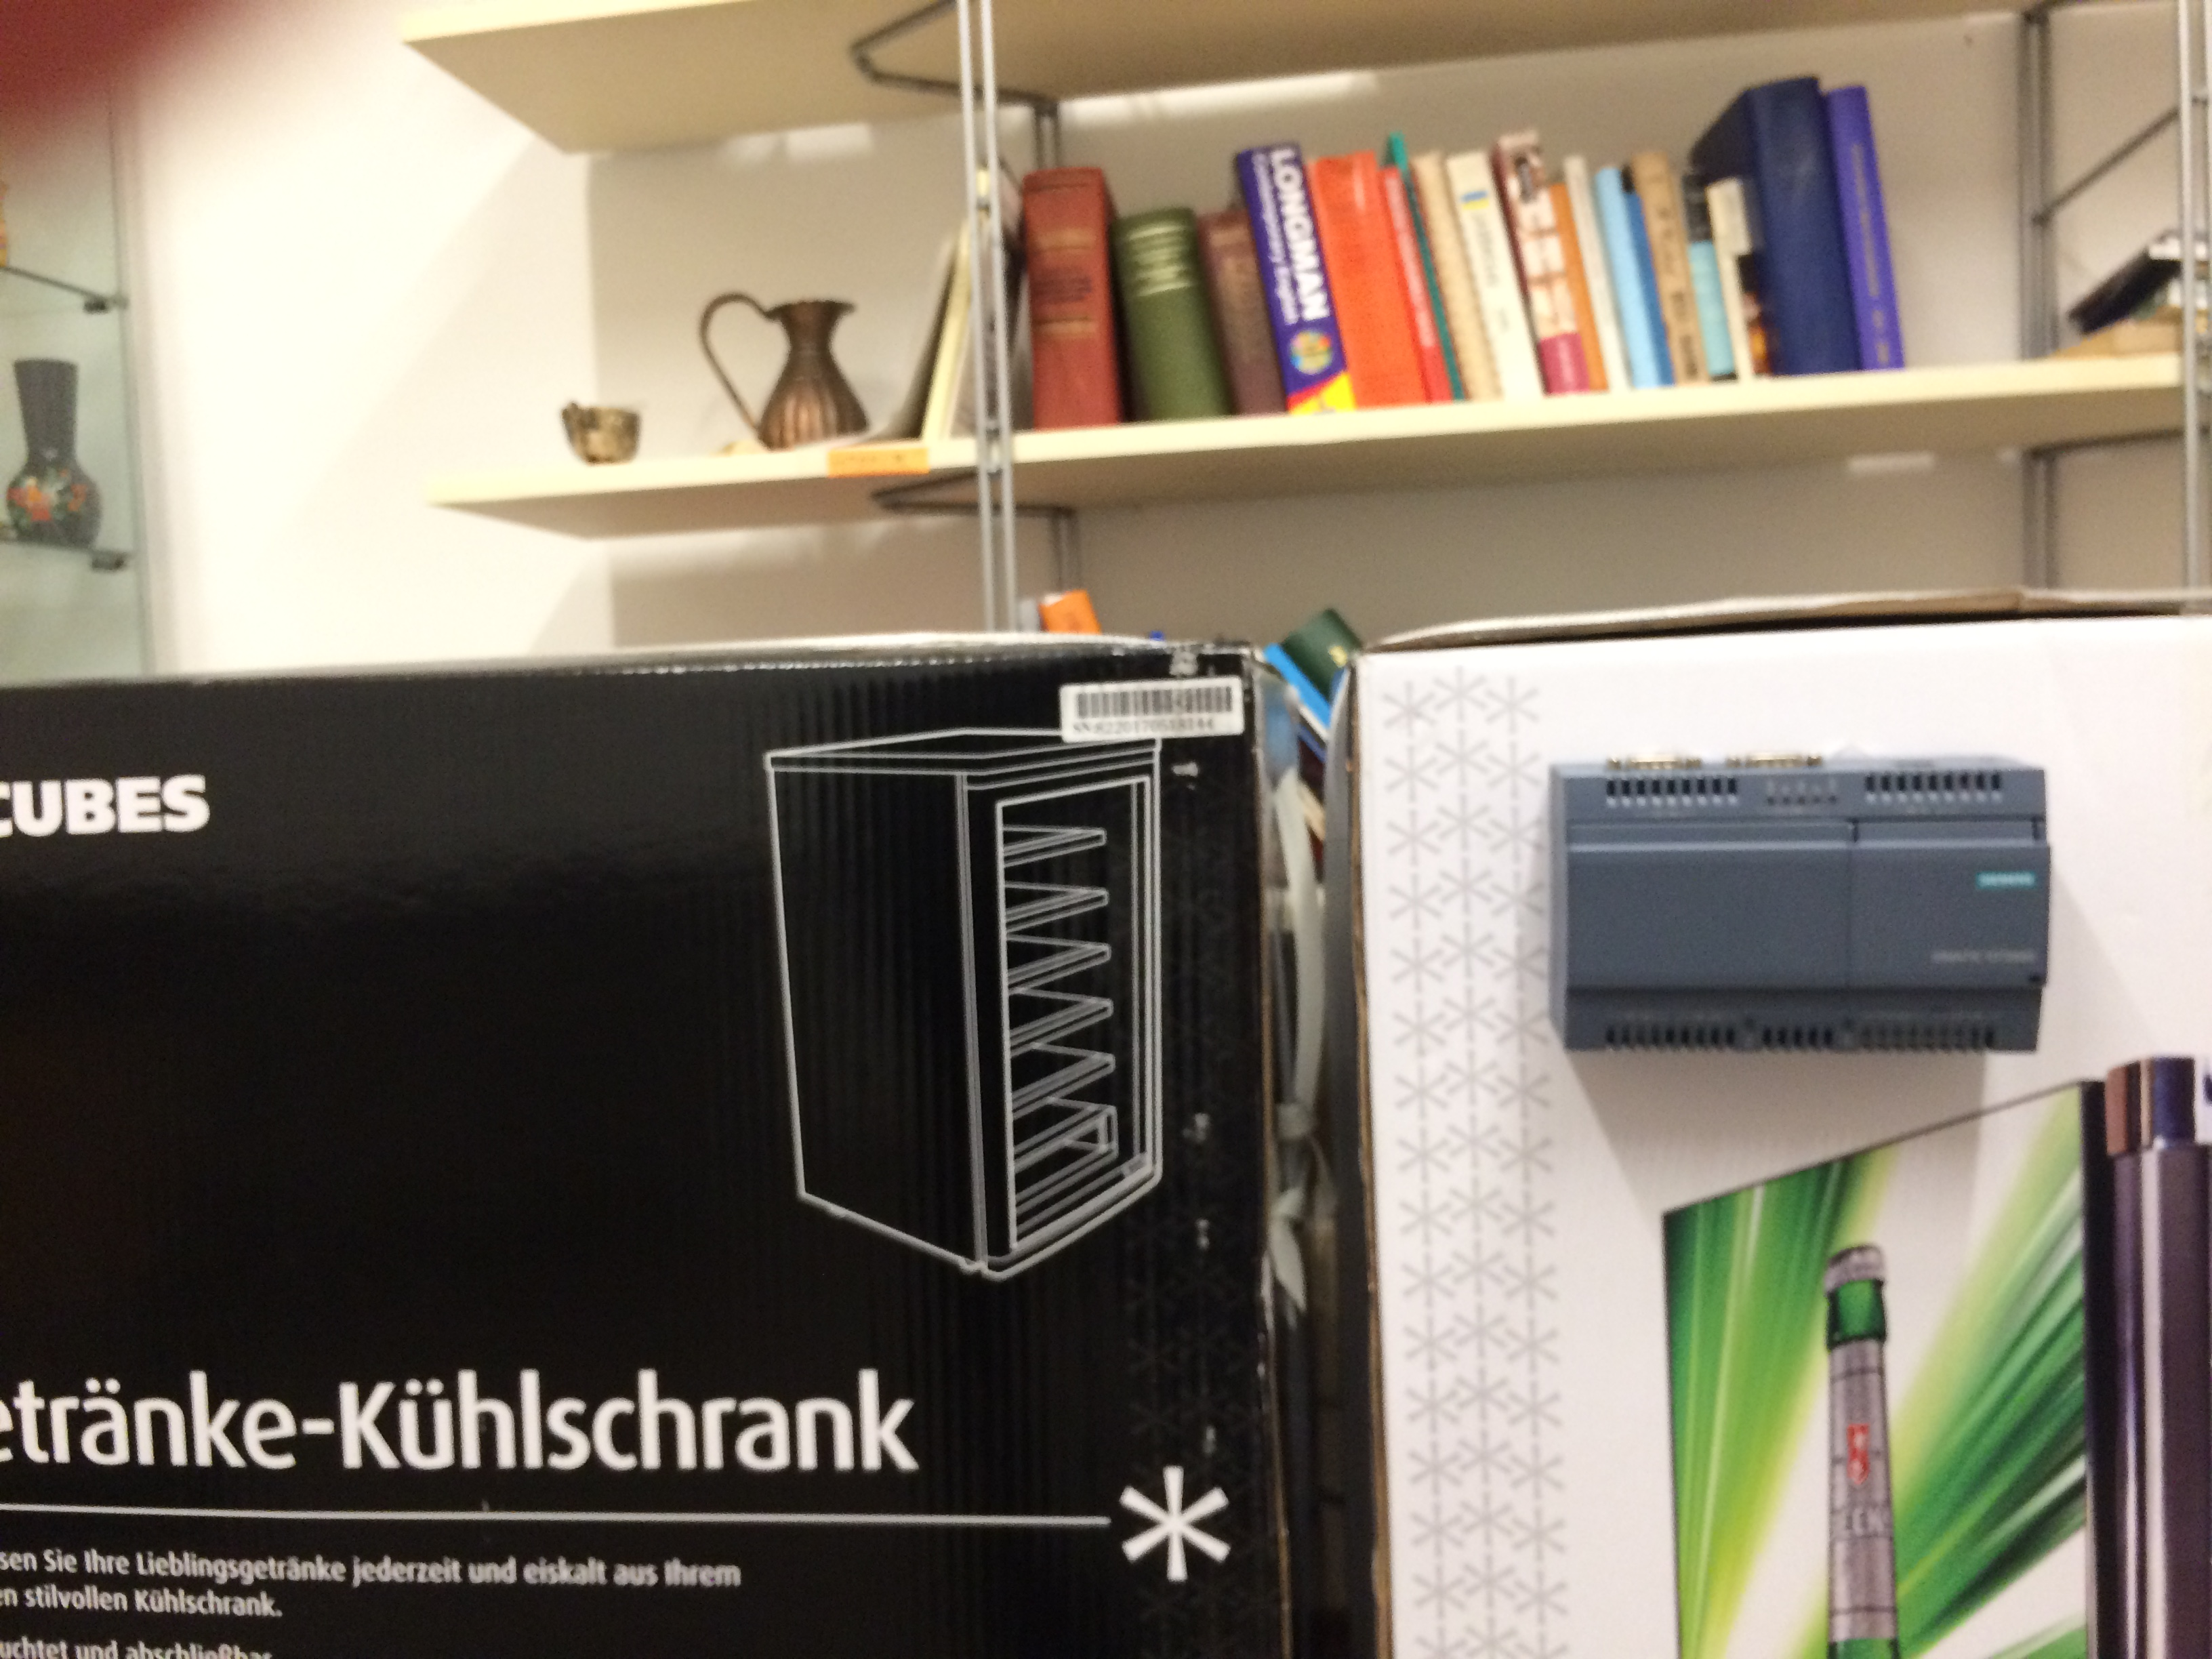iot2000: (1543, 748, 2055, 1056)
